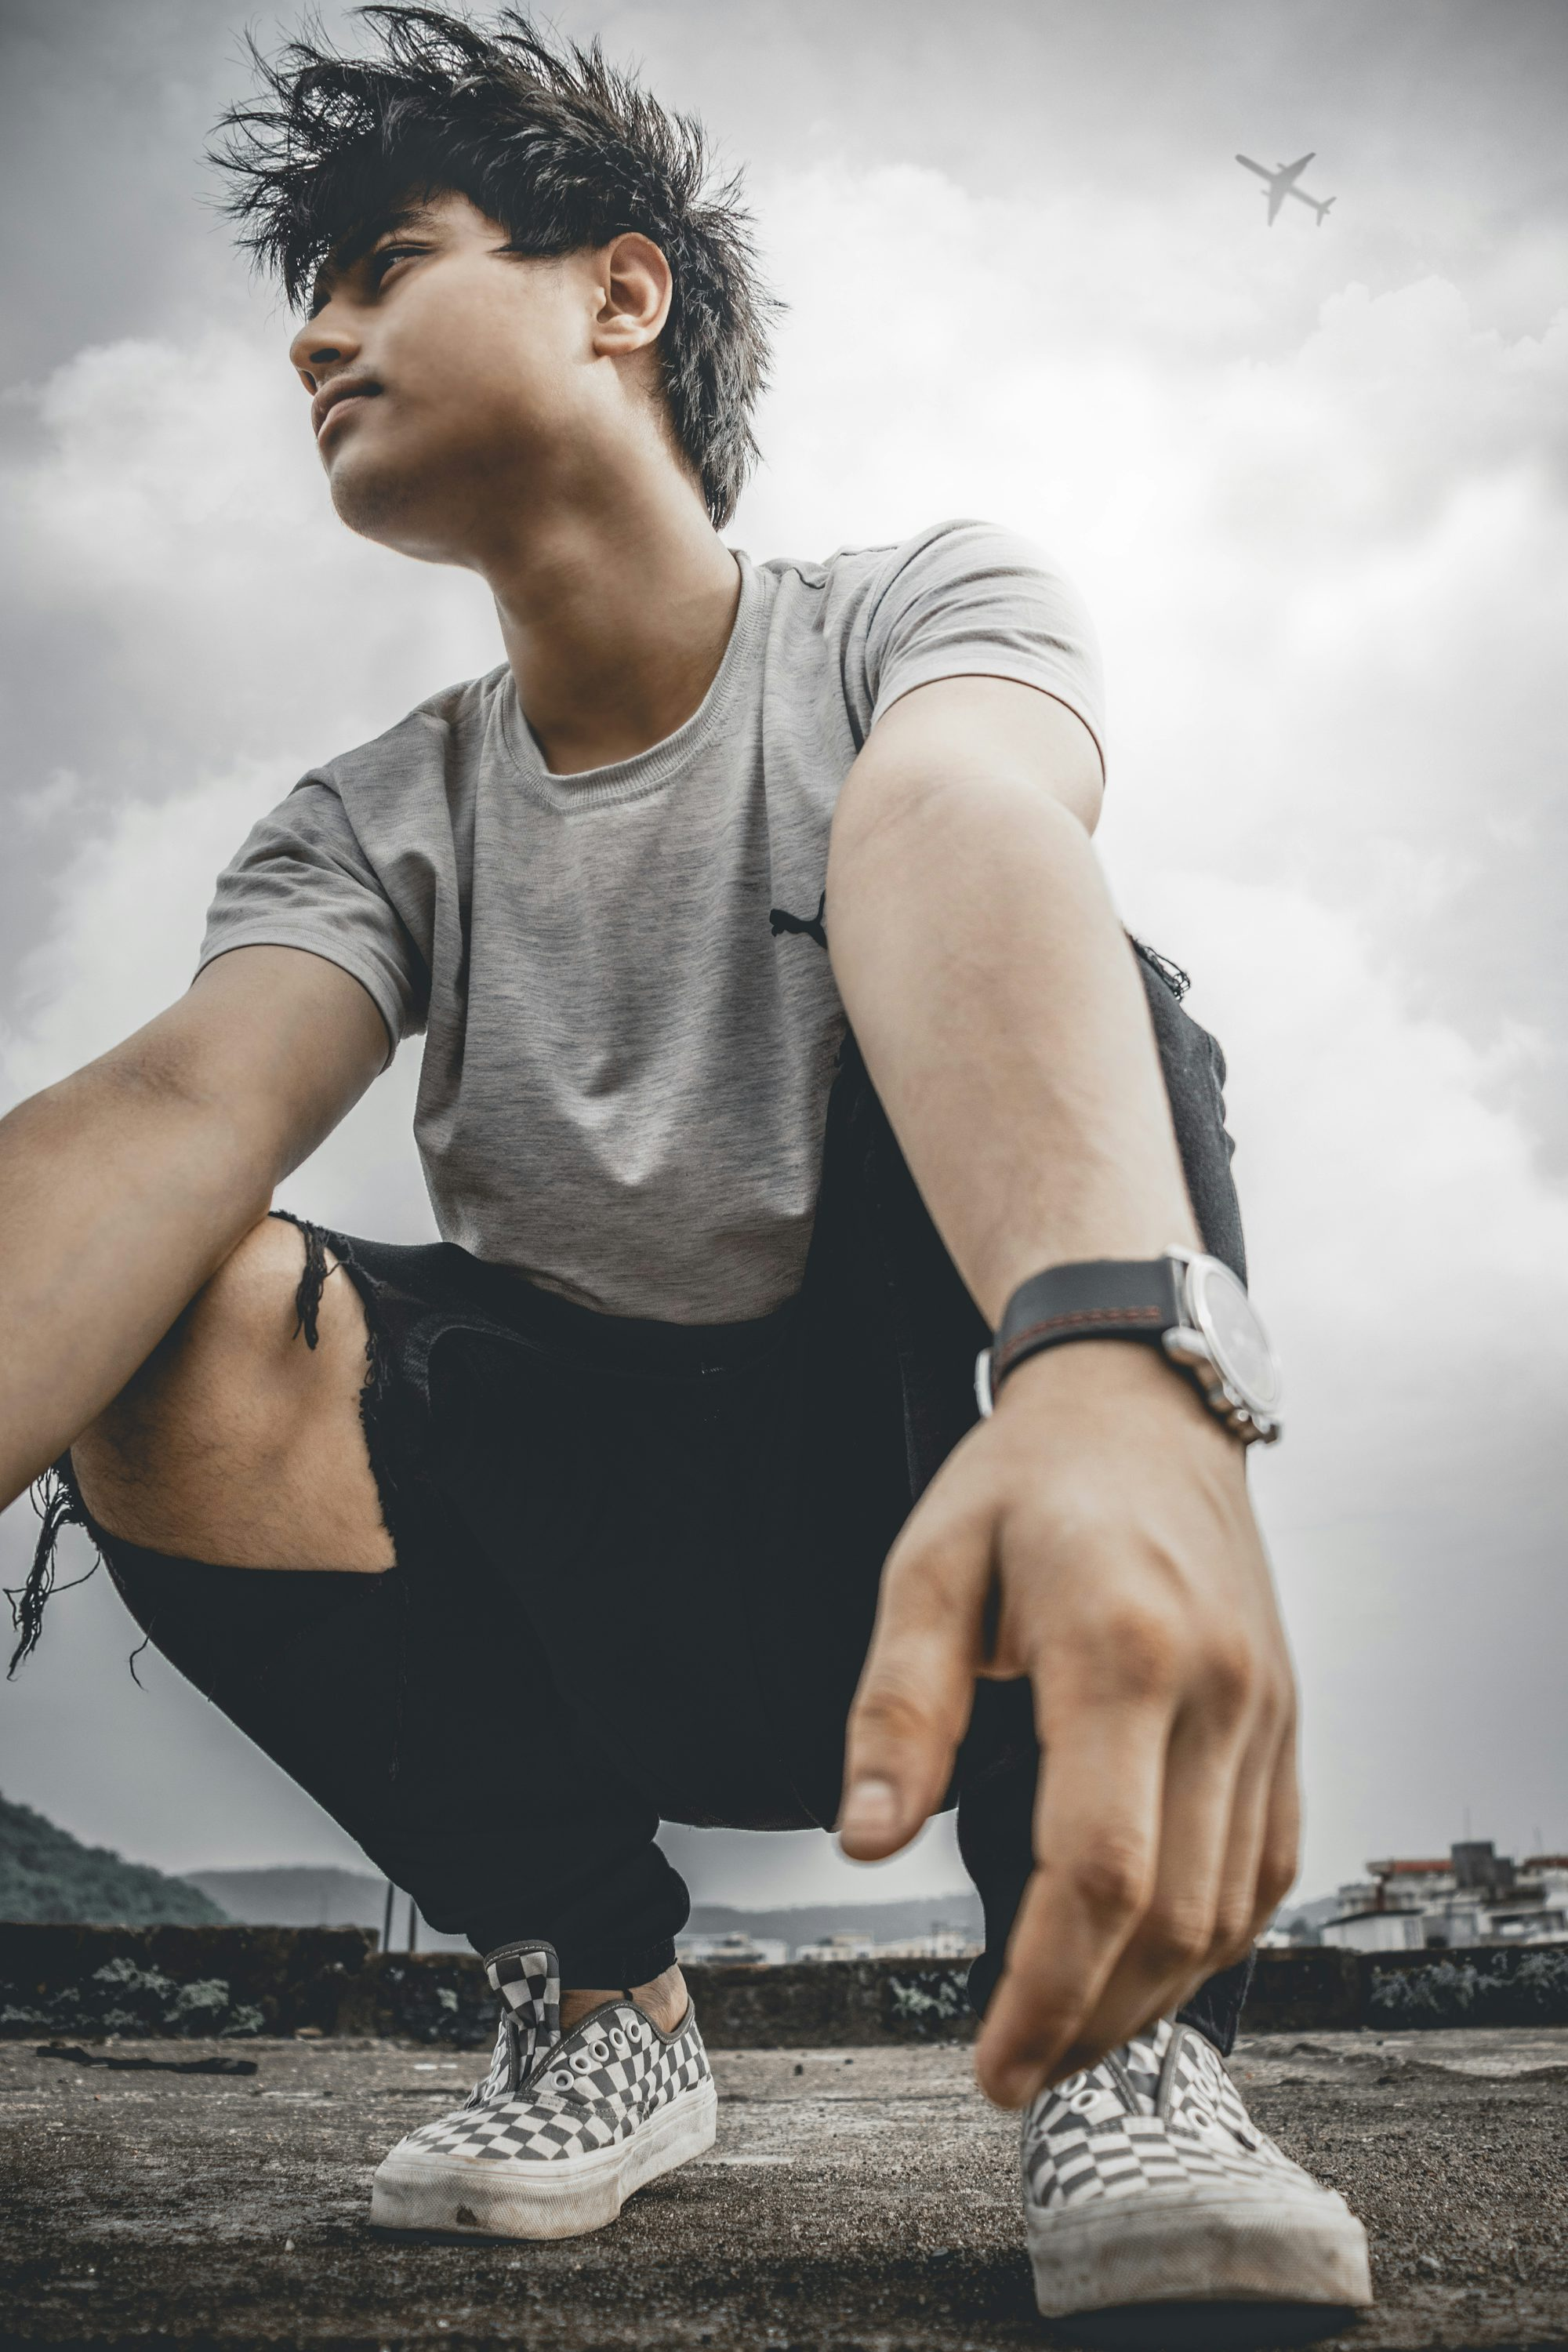person: (1, 24, 1404, 2352)
